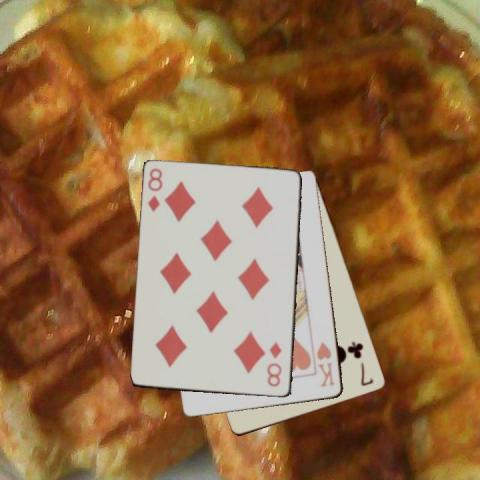7c: (347, 338, 375, 388)
8d: (145, 166, 164, 214), (266, 339, 283, 389)
Kh: (314, 339, 337, 389)
